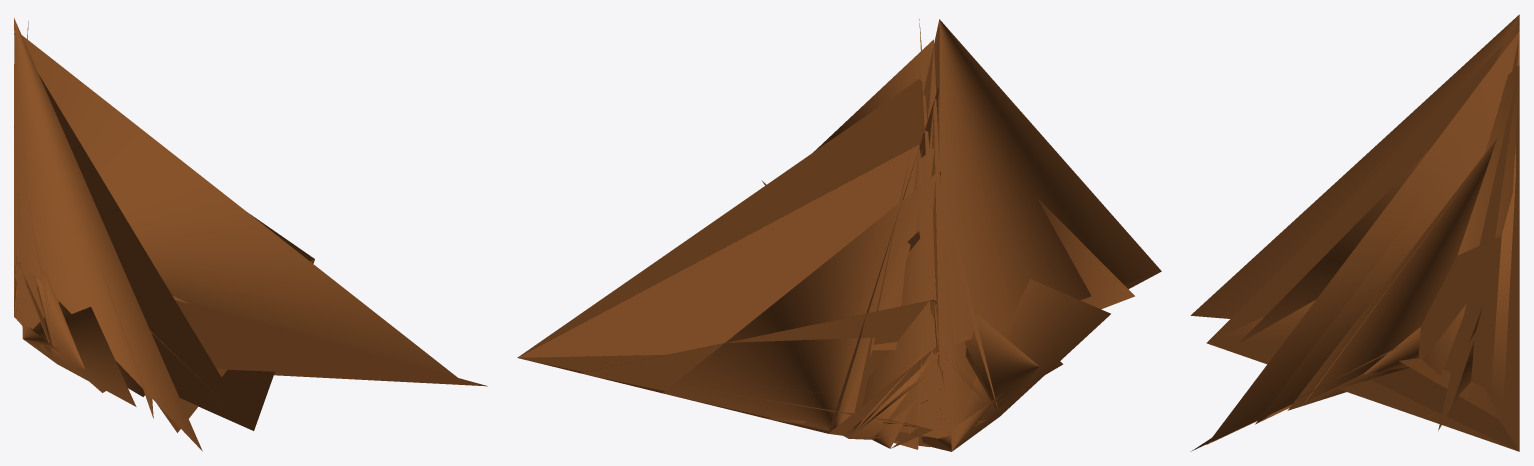
File: RUBBISH.glb
3 renders of one model, left to right at view 1: azimuth 30°, elevation 25°; view 2: azimuth 150°, elevation 25°; view 3: azimuth 270°, elevation 25°, orthographic. The views are drawn at different scales.
Size of the model in its own units: 11.6 by 11.6 by 11.6.
